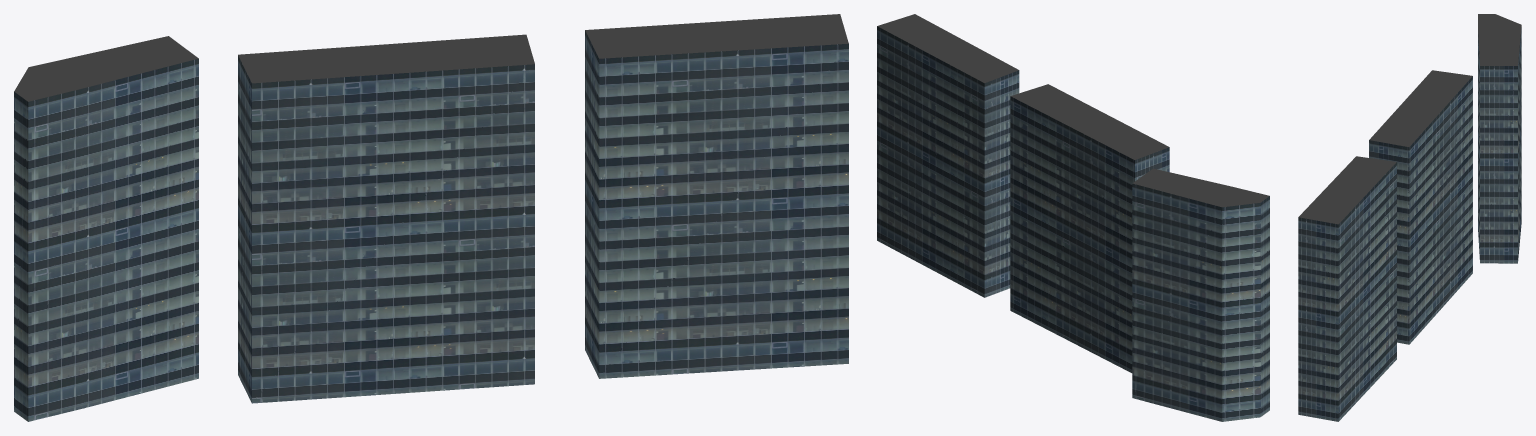
File: builder_19.FBX
The picture shows the model from 3 angles, left to right: view 1: azimuth 30°, elevation 25°; view 2: azimuth 150°, elevation 25°; view 3: azimuth 270°, elevation 25°; orthographic projection. The views are drawn at different scales.
Parts seen in each view (by area): view 1: builder_19; view 2: builder_19; view 3: builder_19.
Part boxes in pixels (x1,y1,x2,y2): builder_19: [14, 14, 848, 421]; builder_19: [877, 14, 1269, 421]; builder_19: [1298, 14, 1521, 421].
Size of the model in its own units: 158530 by 69360 by 71108.
